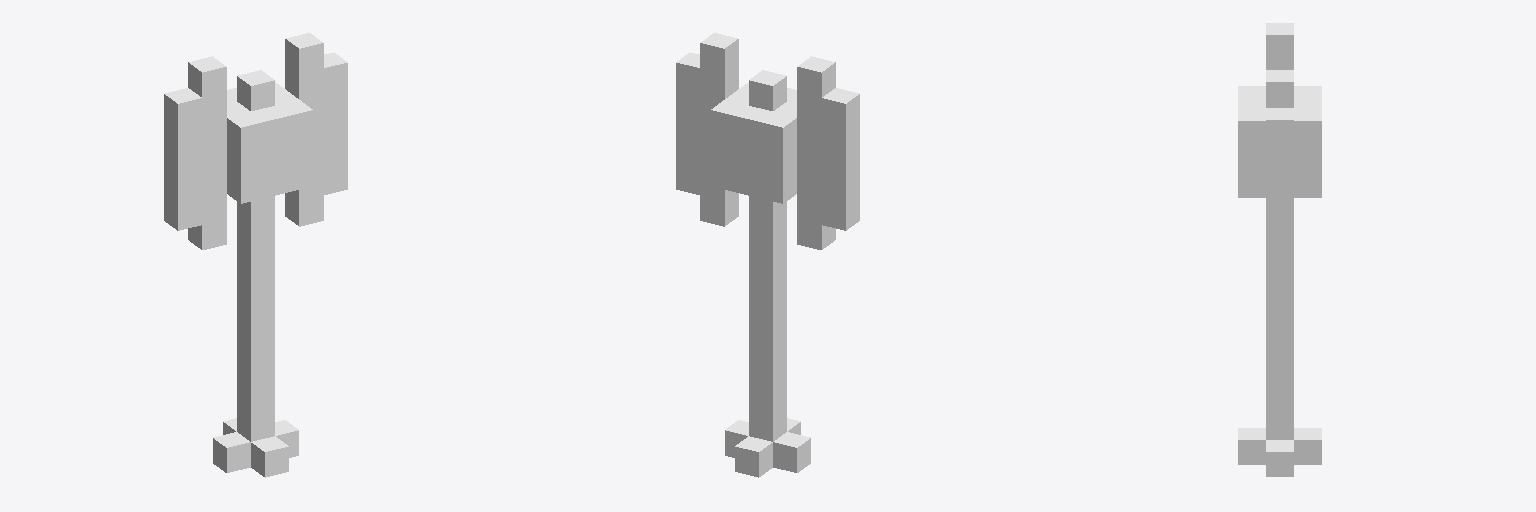
File: axe.obj
3 views of the same model, side by side, from view 1: azimuth 30°, elevation 25°; view 2: azimuth 150°, elevation 25°; view 3: azimuth 270°, elevation 25° (orthographic).
Visible parts, largest first — view 1: axe; view 2: axe; view 3: axe.
Part boxes in pixels (x1,y1,x2,y2): axe: (164, 33, 347, 477); axe: (676, 33, 859, 477); axe: (1238, 23, 1321, 476).
Size of the model in its own units: 8.55 by 19.53 by 3.66.